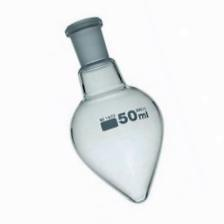Pear shaped flask: (57, 12, 162, 207)
